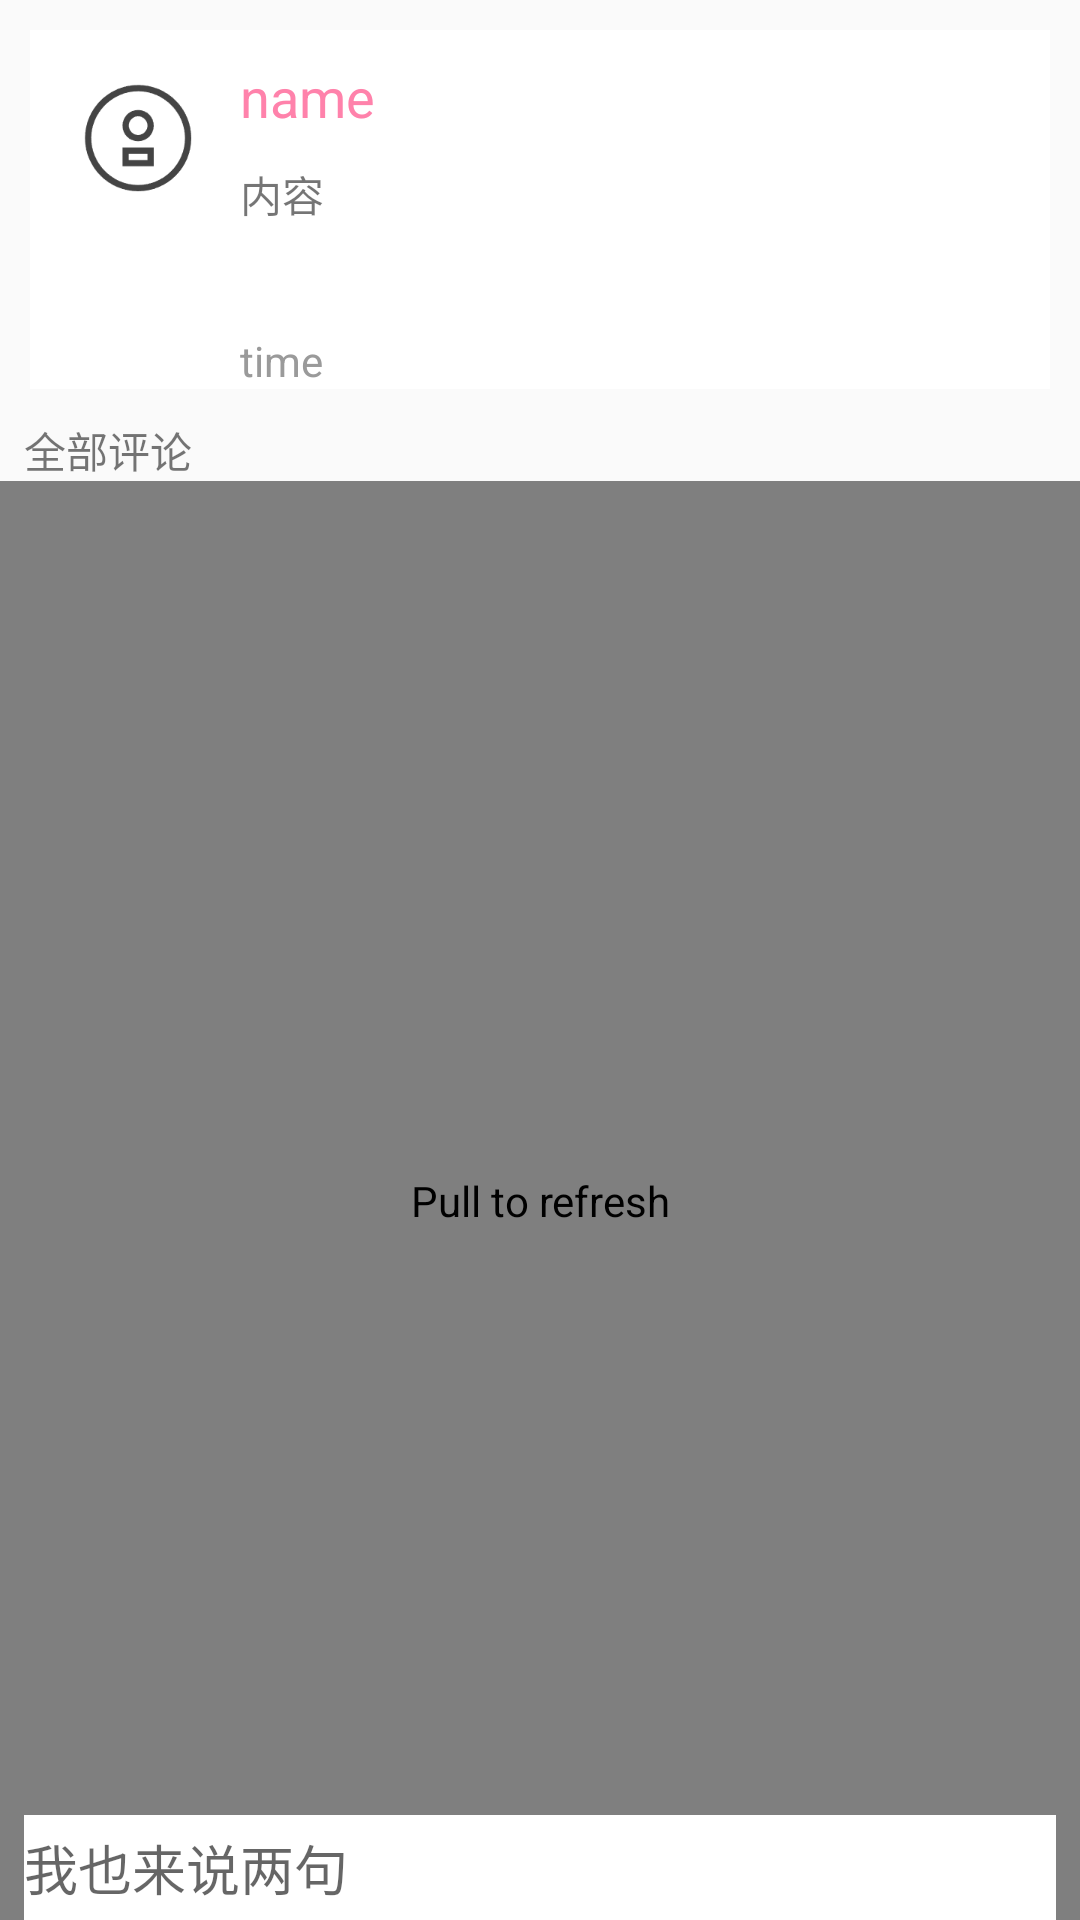

Icon click points for this 1080px x 1920px phone screenshot, format (x,y):
headshot: (138,138)
